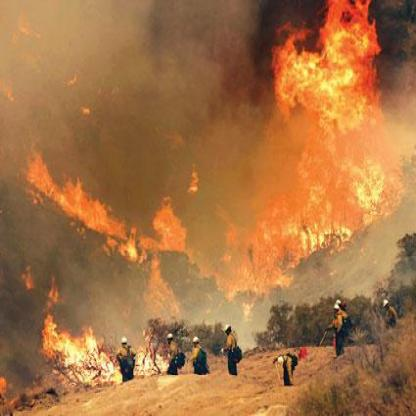fire: (241, 1, 409, 265), (23, 145, 186, 269), (38, 312, 124, 388)
